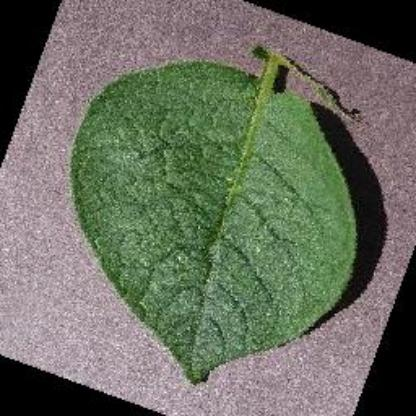Healthy-plant: (63, 39, 370, 384)
